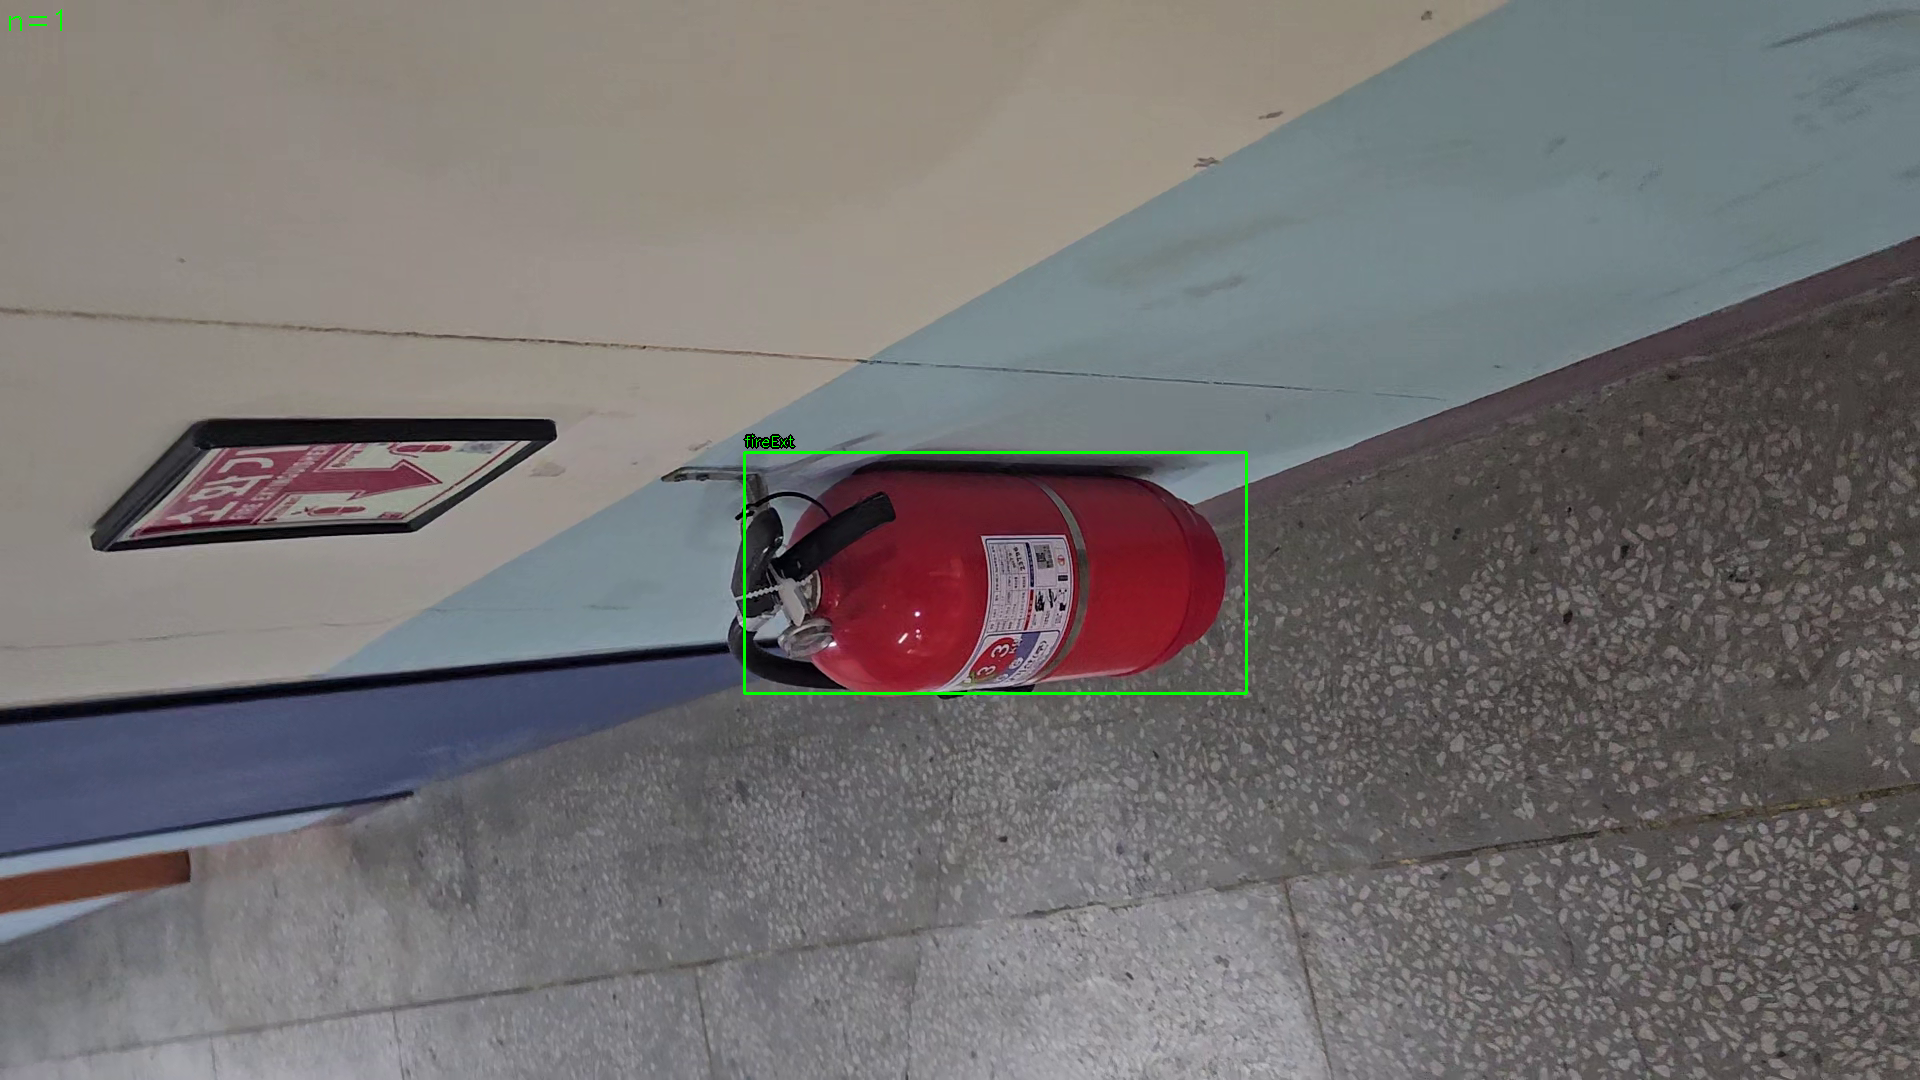lane: (744, 452, 1247, 694)
